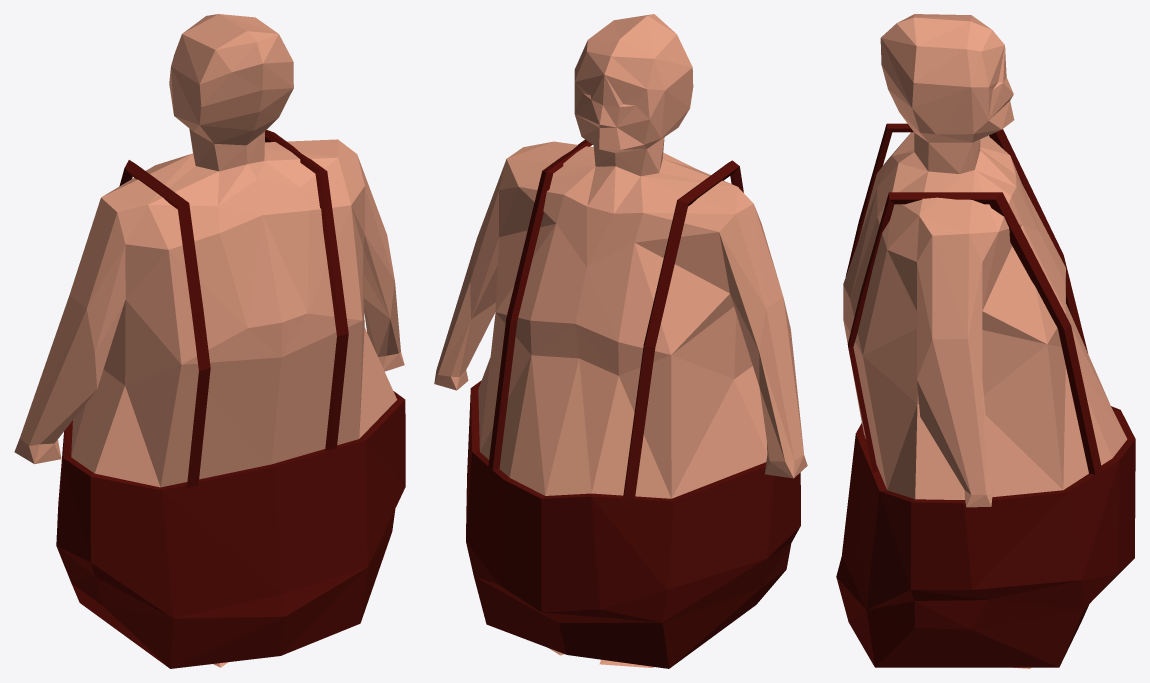
File: Goldo der Händler.fbx
3 renders of one model, left to right at view 1: azimuth 30°, elevation 25°; view 2: azimuth 150°, elevation 25°; view 3: azimuth 270°, elevation 25°, orthographic. The views are drawn at different scales.
Parts seen in each view (by area): view 1: Martin, Schürze; view 2: Martin, Schürze; view 3: Martin, Schürze.
Part boxes in pixels (x1=…): Martin: x1=14, y1=14, x2=404, y2=667; Schürze: x1=56, y1=130, x2=405, y2=668; Martin: x1=434, y1=14, x2=807, y2=667; Schürze: x1=466, y1=139, x2=800, y2=668; Martin: x1=843, y1=14, x2=1127, y2=668; Schürze: x1=836, y1=123, x2=1135, y2=667.
Bounding box in the file's own units: 1.6 × 2.5 × 1.1.
